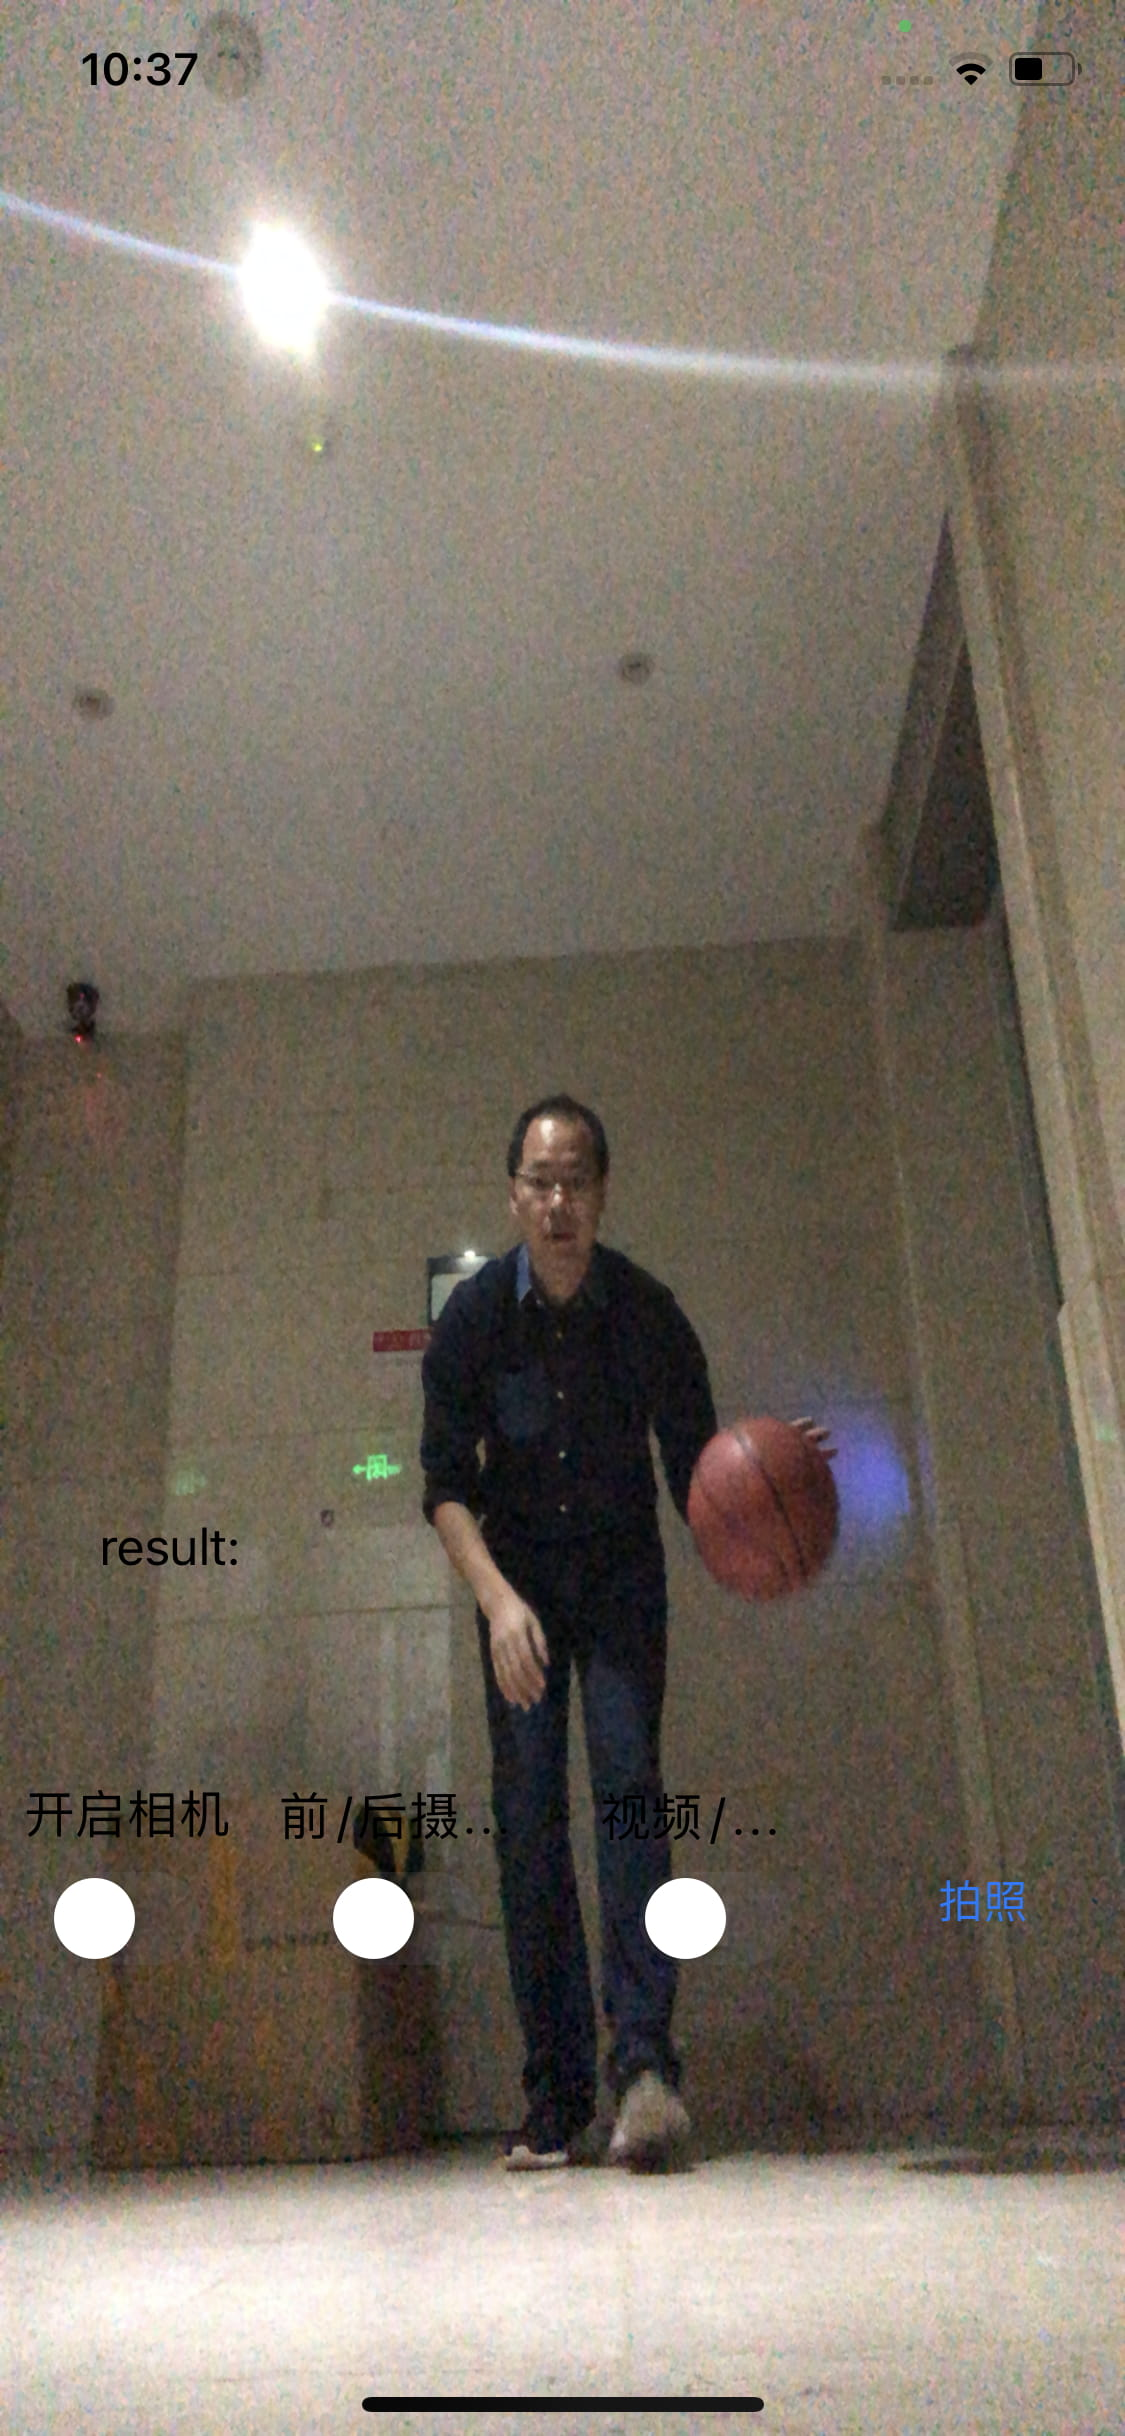ball: (685, 1417, 841, 1603)
